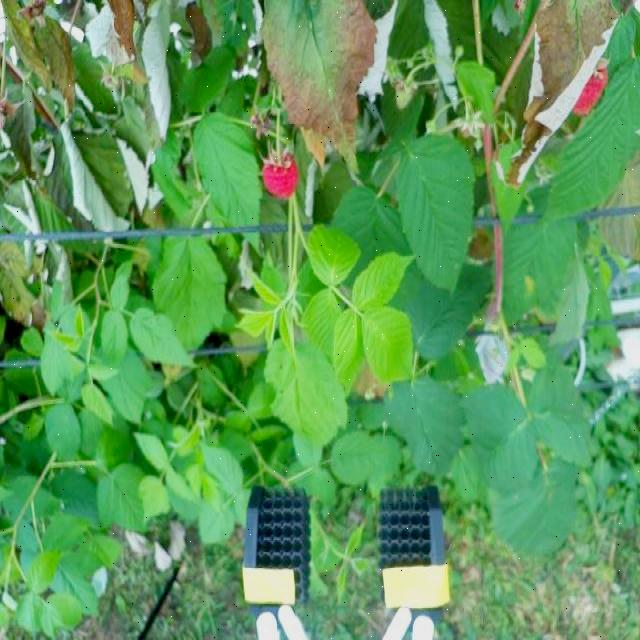Riped berries: (561, 52, 610, 117), (259, 148, 300, 201)
